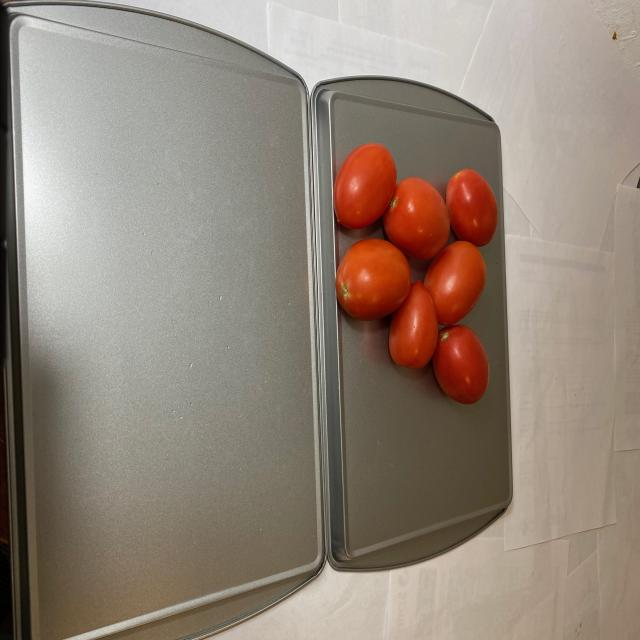tomato: (331, 138, 498, 404)
